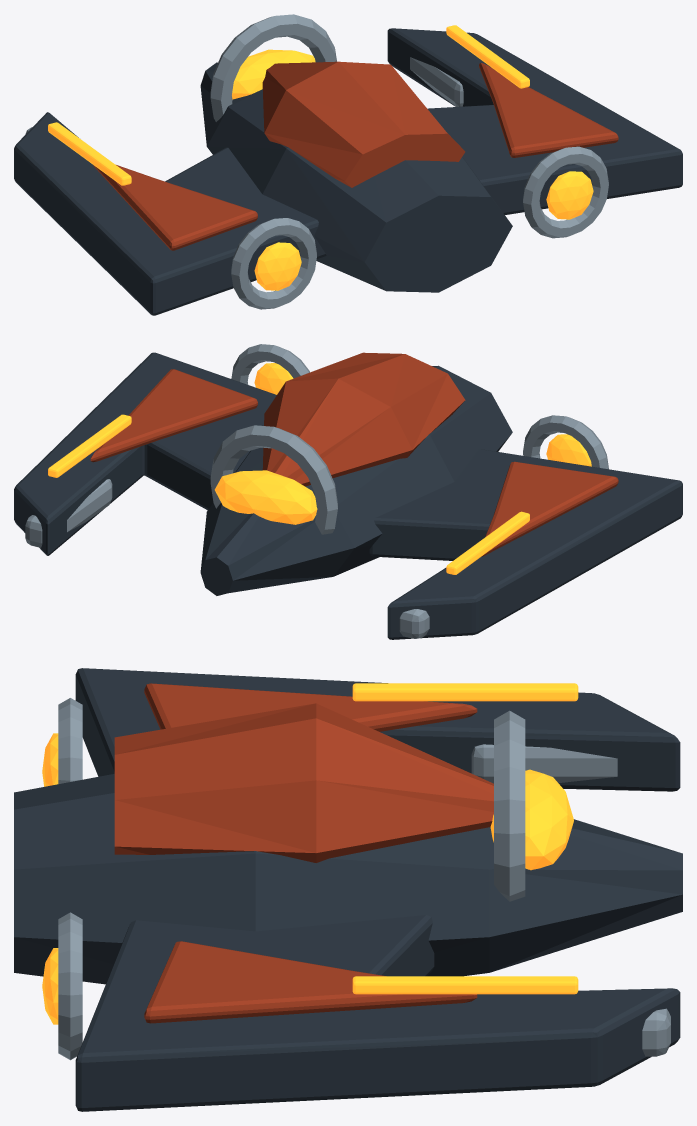
The model's file is Marauder.fbx.
3 renders of one model, top to bottom at view 1: azimuth 30°, elevation 25°; view 2: azimuth 150°, elevation 25°; view 3: azimuth 270°, elevation 25°, orthographic. The views are drawn at different scales.
Parts seen in each view (by area): view 1: ND_HULL; view 2: ND_HULL; view 3: ND_HULL.
Boxes of the visible parts, x1=… form: ND_HULL: x1=14, y1=14, x2=682, y2=315; ND_HULL: x1=14, y1=344, x2=682, y2=639; ND_HULL: x1=14, y1=668, x2=682, y2=1111.
Size of the model in its own units: 230 by 72 by 166.
